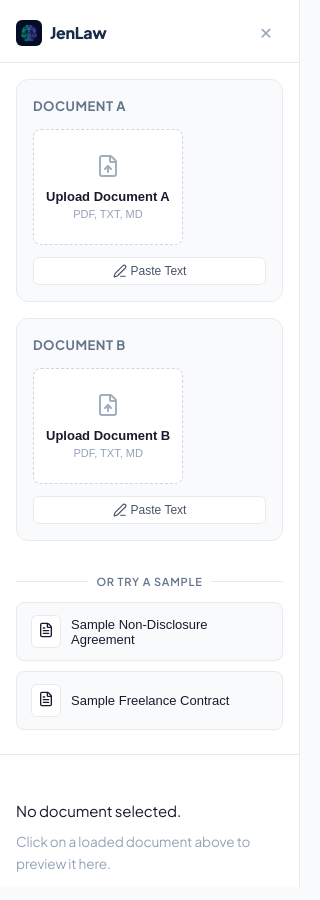
it: Sidebar — paste UI › shows paste textarea when paste button is clicked
The image size is (320, 900).
Step 1. Click the 1st button "Paste Text" → [150, 271], box [33, 257, 266, 285]
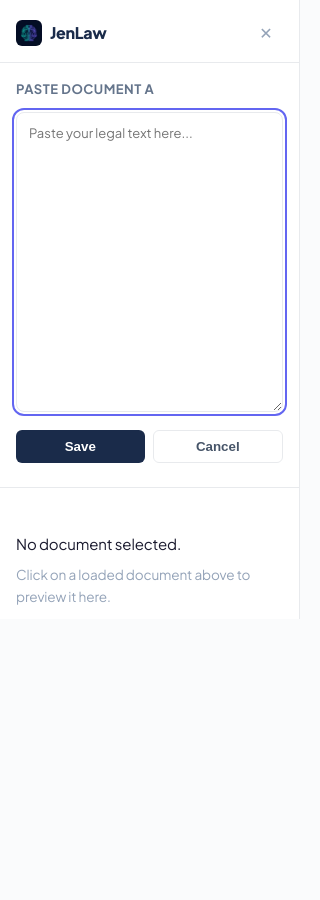
Result: the text box with placeholder "Paste your legal text here..." is shown at [16, 112, 283, 412]
